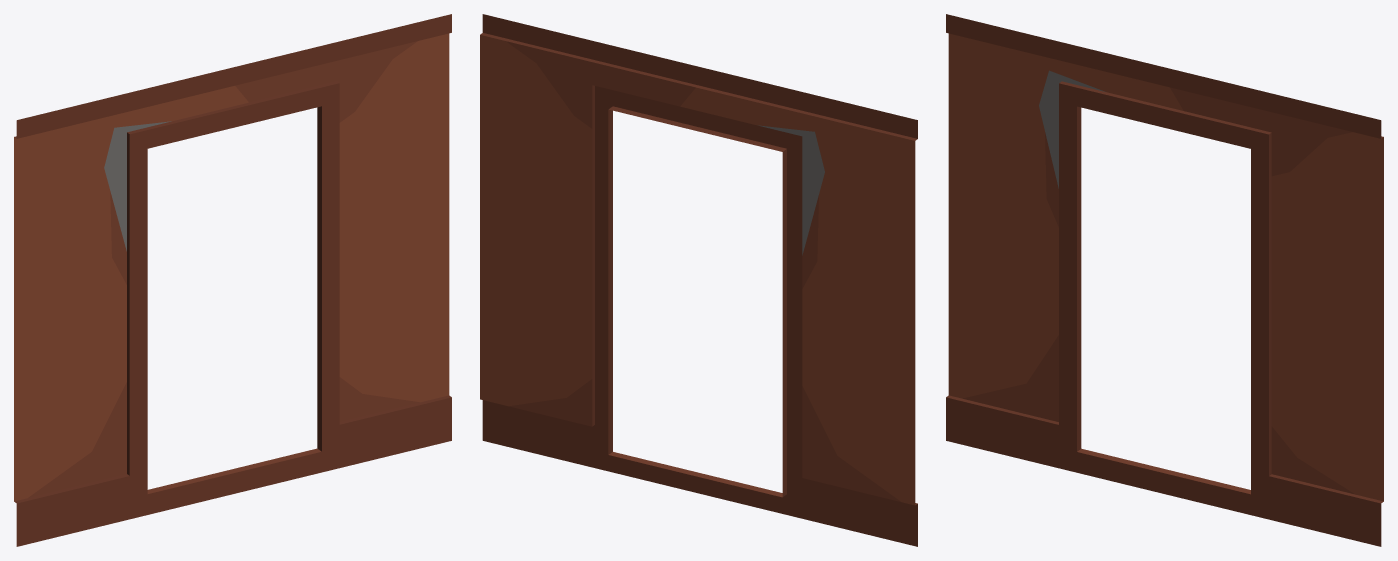
The model's file is AI_Env_Wall_Red_Doorway.fbx.
3 renders of one model, left to right at view 1: azimuth 30°, elevation 25°; view 2: azimuth 150°, elevation 25°; view 3: azimuth 330°, elevation 25°, orthographic.
Parts seen in each view (by area): view 1: AI_Env_Wall_Red_Doorway; view 2: AI_Env_Wall_Red_Doorway; view 3: AI_Env_Wall_Red_Doorway.
Part boxes in pixels (bbox=[...]): AI_Env_Wall_Red_Doorway: bbox=[14, 14, 451, 546]; AI_Env_Wall_Red_Doorway: bbox=[480, 14, 917, 546]; AI_Env_Wall_Red_Doorway: bbox=[946, 14, 1383, 546].
Bounding box in the file's own units: 5 × 4.69 × 0.0885.
